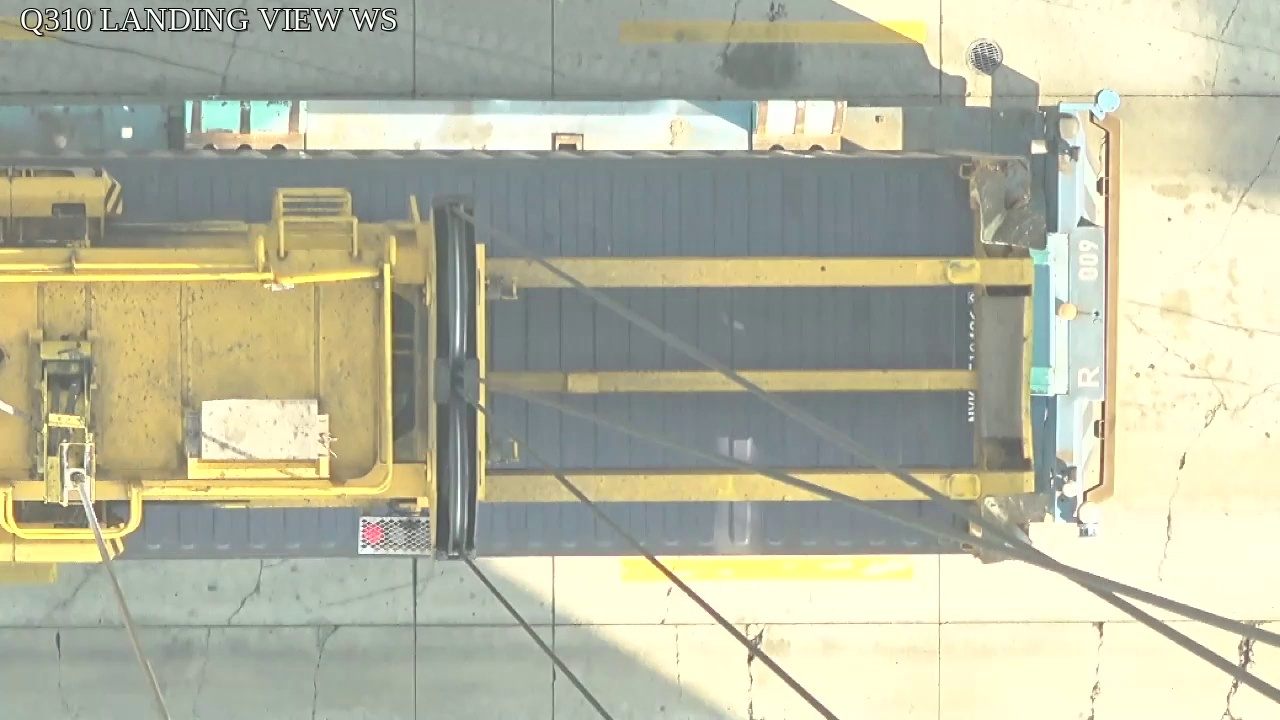right: (424, 199, 487, 565)
